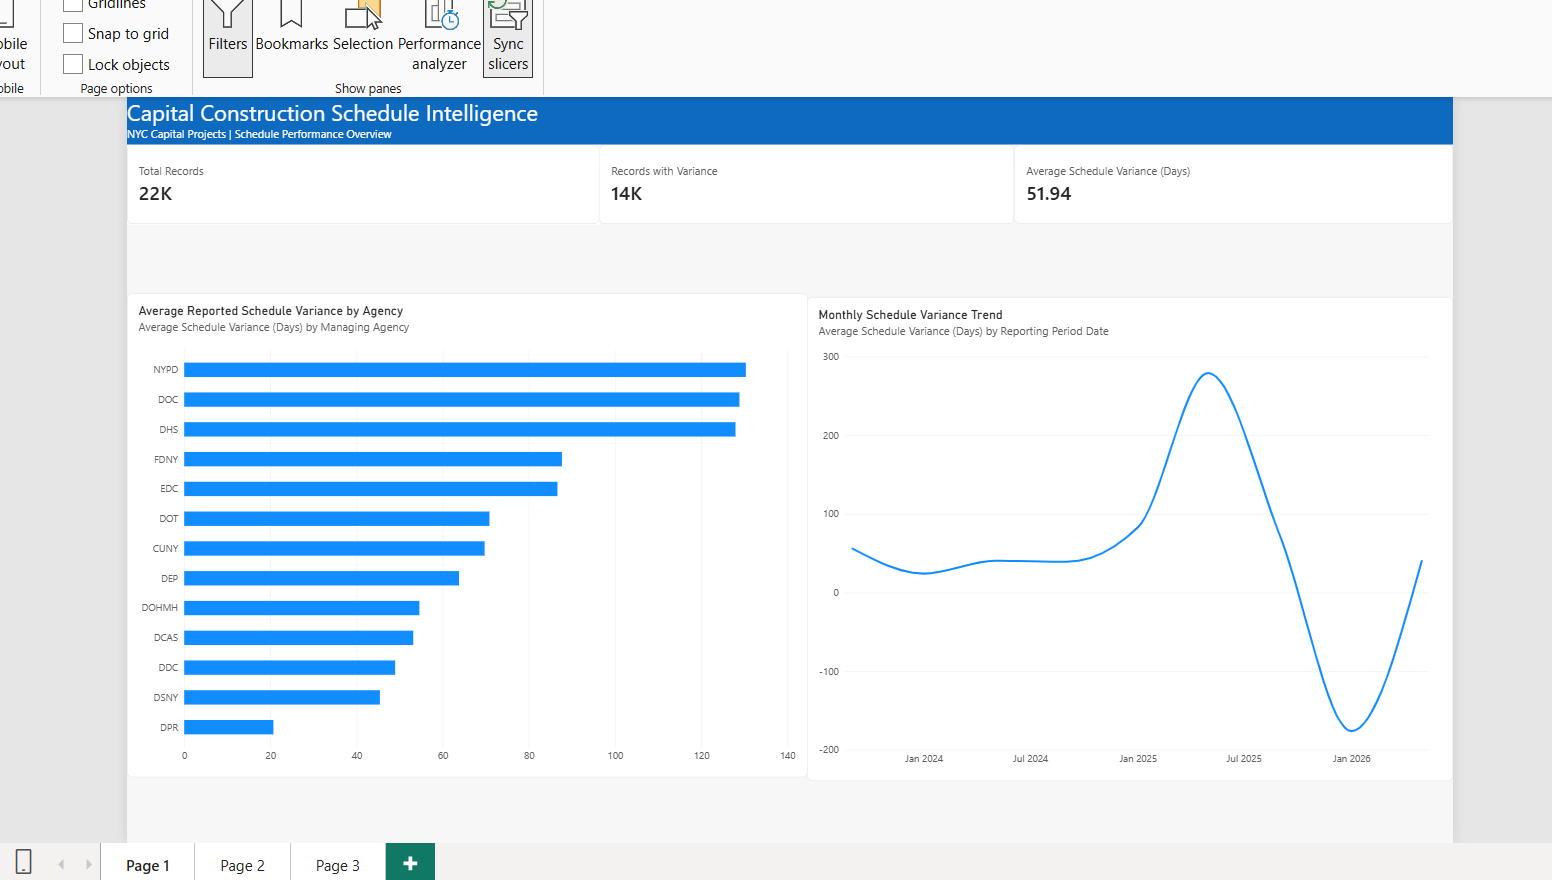

The page's visual inventory and layout, read from the dashboard file:
{"tool":"powerbi","page":{"name":"Page 1","canvas":[1920,1080],"ordinal":0},"visuals":[{"type":"cardVisual","fields":{"Data":["export.Total Records"]},"box":[0,68.8,684.1,115.8],"z":0},{"type":"cardVisual","fields":{"Data":["export.Records with Variance"]},"box":[684.1,68.8,600.8,115.8],"z":1000},{"type":"cardVisual","fields":{"Data":["export.Average Schedule Variance (Days)"]},"box":[1284.9,68.8,635.2,115.8],"z":2000},{"type":"clusteredBarChart","title":"Average Reported Schedule Variance by Agency","fields":{"Category":["export.Managing Agency"],"Y":["export.Average Schedule Variance (Days)"]},"box":[0,284.4,985.3,700.8],"z":3000},{"type":"lineChart","title":"Monthly Schedule Variance Trend","fields":{"Category":["export.Reporting Period Date"],"Y":["export.Average Schedule Variance (Days)"]},"box":[985.3,289,935.2,700.8],"z":4000},{"type":"textbox","box":[0,0,1920.1,68.8],"z":4001}]}

Visuals, with their boxes on the page's 1920x1080 design canvas (x1, y1, x2, y2). These are canvas units, not pixel positions in the 1552x880 screenshot, which may show the page scaled, cropped or inside an application window:
cardVisual - export.Total Records: 0, 69, 684, 185
cardVisual - export.Records with Variance: 684, 69, 1285, 185
cardVisual - export.Average Schedule Variance (Days): 1285, 69, 1920, 185
"Average Reported Schedule Variance by Agency" clusteredBarChart: 0, 284, 985, 985
"Monthly Schedule Variance Trend" lineChart: 985, 289, 1920, 990
textbox: 0, 0, 1920, 69
